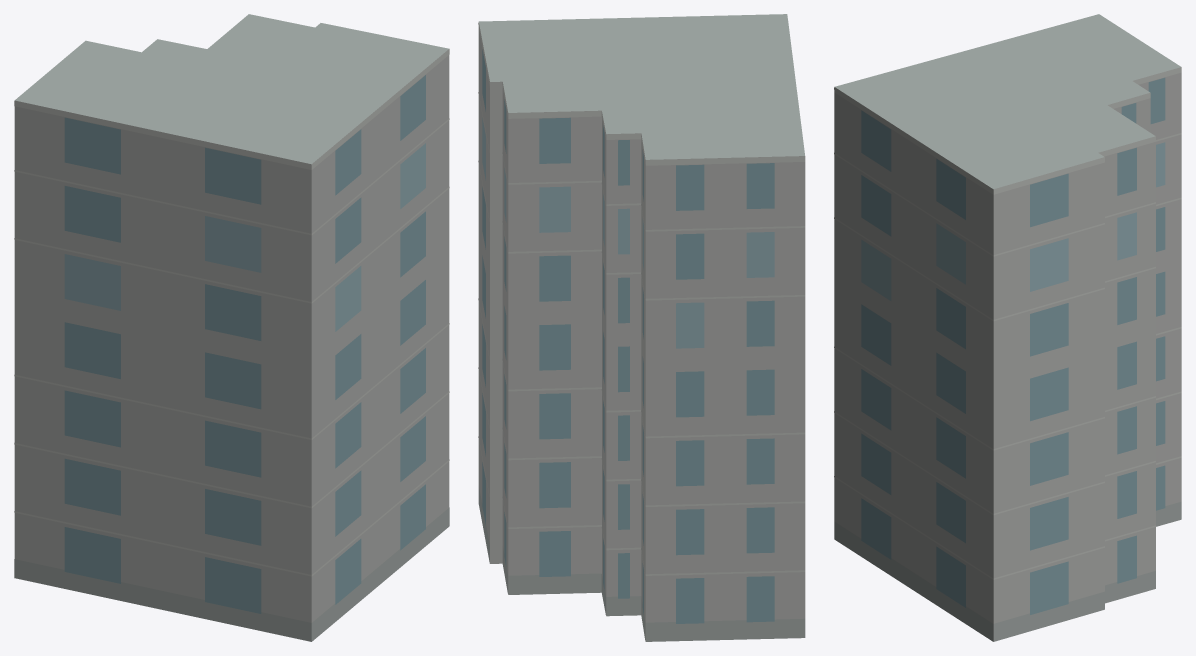
Rendered from survey-upis-32664635.glb.
3 views of the same model, side by side, from view 1: azimuth 30°, elevation 25°; view 2: azimuth 150°, elevation 25°; view 3: azimuth 270°, elevation 25° (orthographic). The views are drawn at different scales.
Visible parts, largest first — view 1: survey-upis-32664635.tmp; view 2: survey-upis-32664635.tmp; view 3: survey-upis-32664635.tmp.
Part boxes in pixels (x1,y1,x2,y2): survey-upis-32664635.tmp: (14, 14, 449, 641); survey-upis-32664635.tmp: (478, 14, 805, 641); survey-upis-32664635.tmp: (834, 14, 1181, 641).
Size of the model in its own units: 16.64 by 20 by 13.93.
